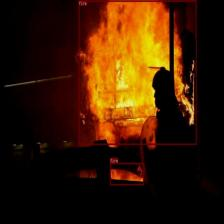fire: (78, 0, 196, 145), (110, 162, 144, 186)
